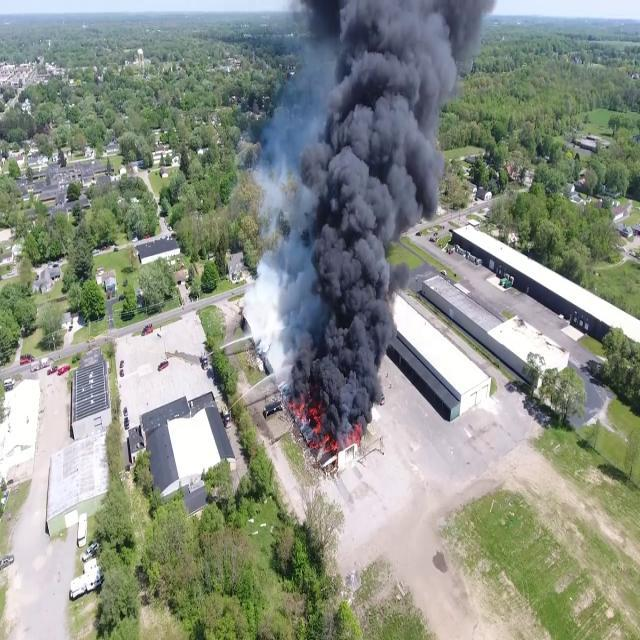Smoke: (241, 0, 497, 451)
